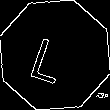L_N: (32, 26, 78, 84)
